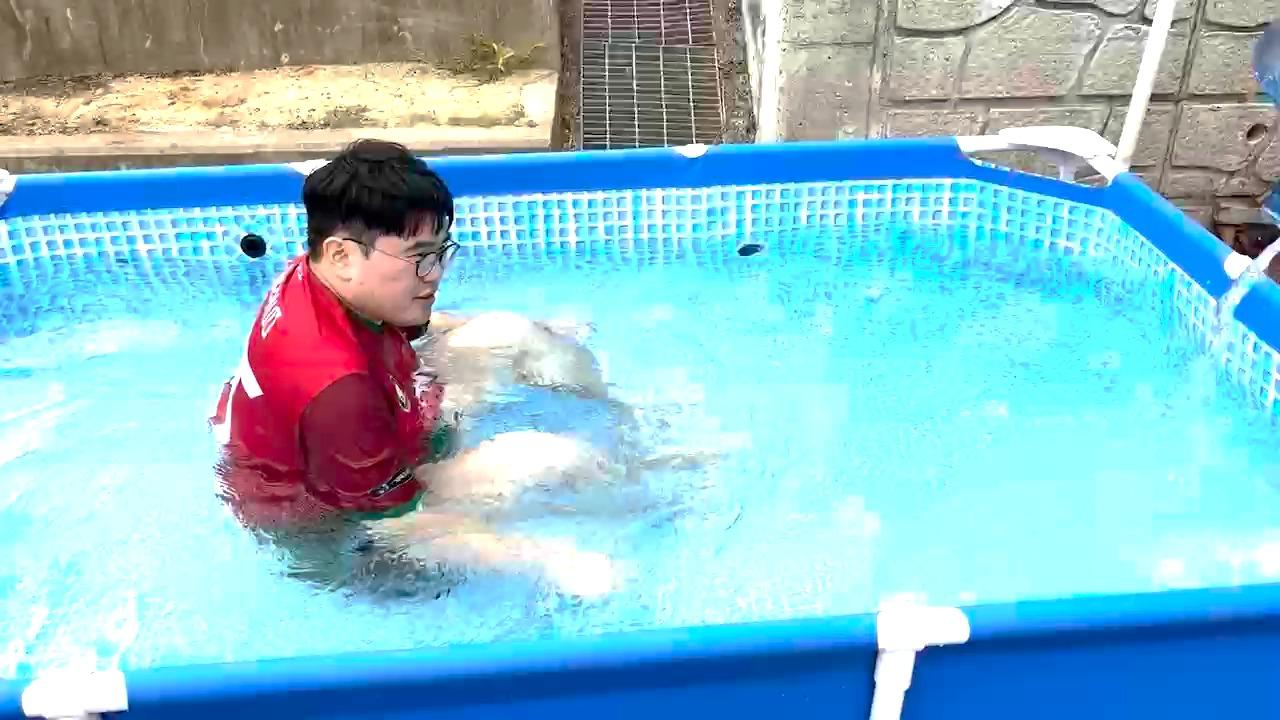Swimming: (191, 129, 744, 610)
